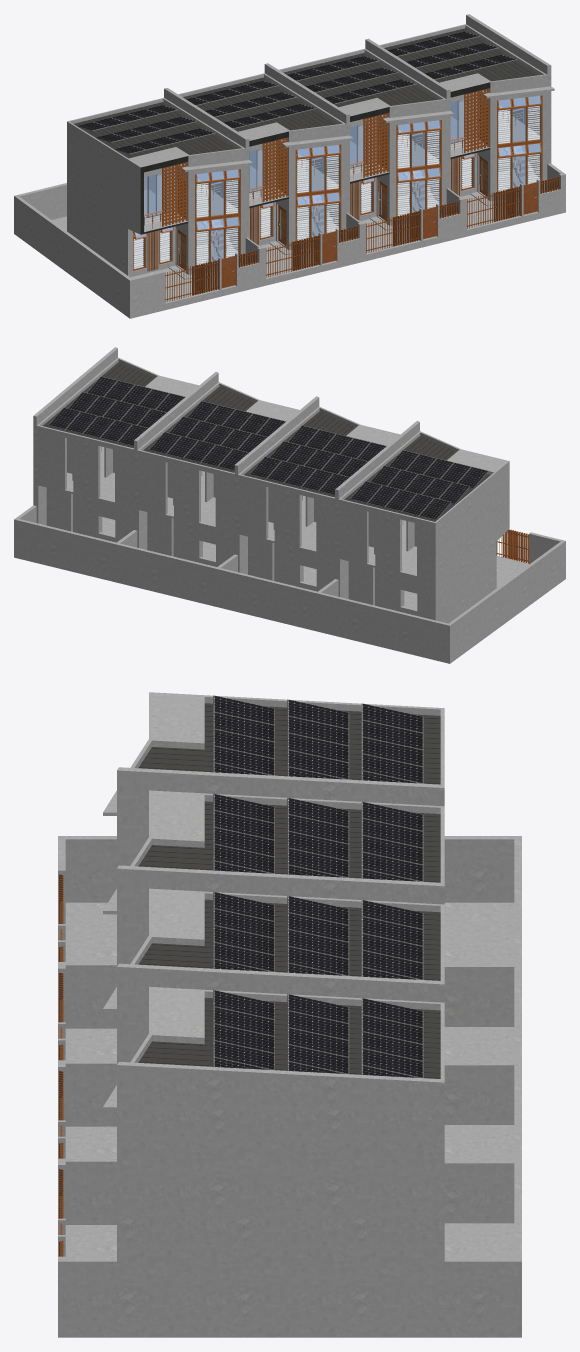
File: Rowhouse.glb
3 views of the same model, one above another, from view 1: azimuth 30°, elevation 25°; view 2: azimuth 150°, elevation 25°; view 3: azimuth 270°, elevation 25° (orthographic). The views are drawn at different scales.
Visible parts, largest first — view 1: ROWHOUSE; view 2: ROWHOUSE; view 3: ROWHOUSE.
Boxes of the visible parts, left/top/right/bottom form: ROWHOUSE: left=14, top=14, right=565, bottom=318; ROWHOUSE: left=14, top=347, right=565, bottom=663; ROWHOUSE: left=58, top=692, right=521, bottom=1337.
Size of the model in its own units: 26 by 7.77 by 11.99.
17 materials, 10 textured.
